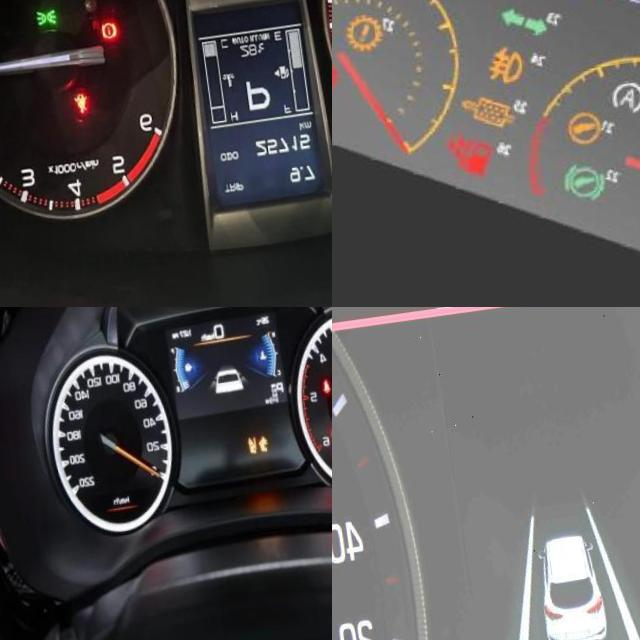Seat Belt: (64, 92, 83, 121), (315, 389, 324, 406)
